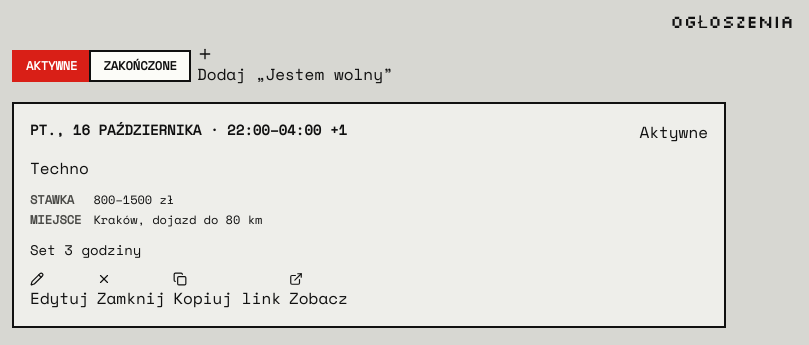
Test case: ListingsScreen, artist › lists active listings and switches to ended ones
Expected: the text "Techno" is shown, [30,156,89,180]
Expected: the text "800–1500 zł" is shown, [93,191,174,208]
Click the button "Zakończone": (140, 66) [89,50,191,82]
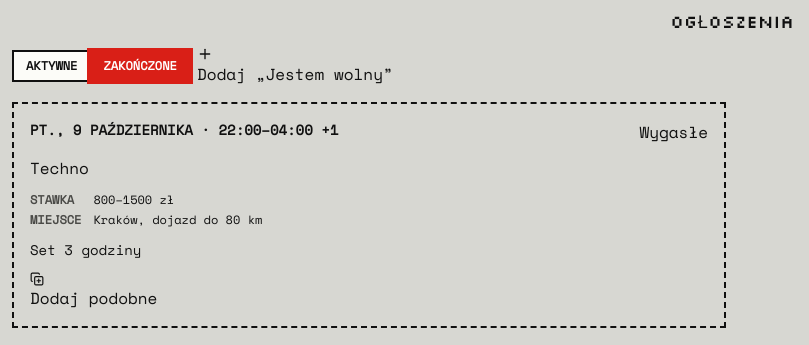
Result: the text "Wygasłe" is shown at [640,120,708,144]
Result: the button with aria-label "Dodaj ogłoszenie podobne" is shown at [30,272,157,310]
